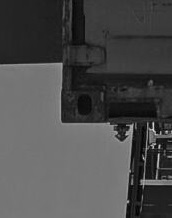twist_lock_2: (108, 116, 134, 146)
